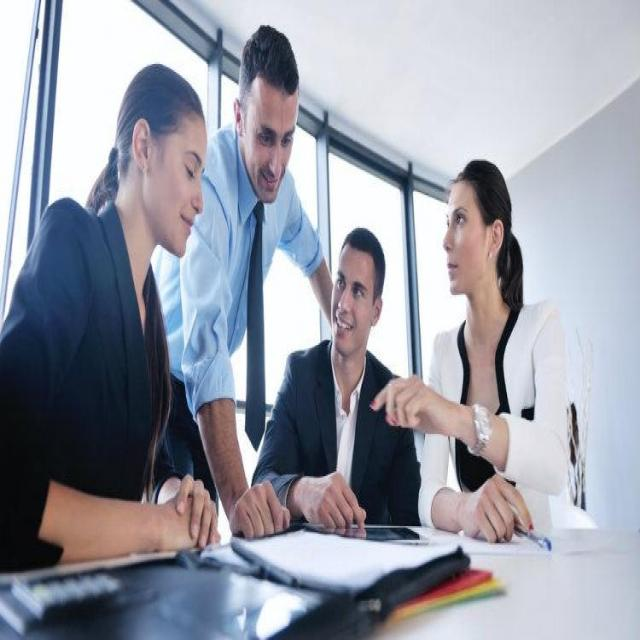person: (5, 37, 248, 587), (160, 17, 382, 557), (414, 145, 584, 537), (278, 225, 423, 543)
